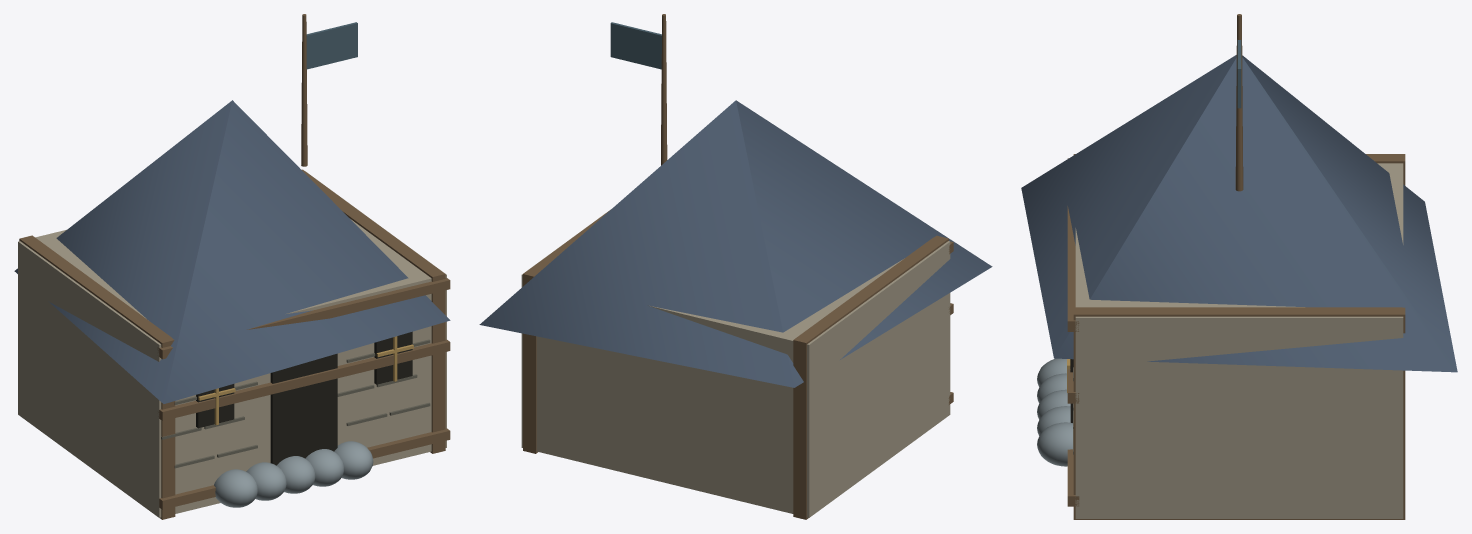
Rendered from b-mine-french.glb.
3 renders of one model, left to right at view 1: azimuth 30°, elevation 25°; view 2: azimuth 150°, elevation 25°; view 3: azimuth 270°, elevation 25°, orthographic. The views are drawn at different scales.
Parts seen in each view (by area): view 1: Structure; view 2: Structure; view 3: Structure.
Boxes of the visible parts, x1,y1,x2,y2 form: Structure: (14, 14, 450, 519); Structure: (479, 14, 992, 519); Structure: (1021, 14, 1457, 519).
Bounding box in the file's own units: 4.53 × 5.33 × 4.53.
